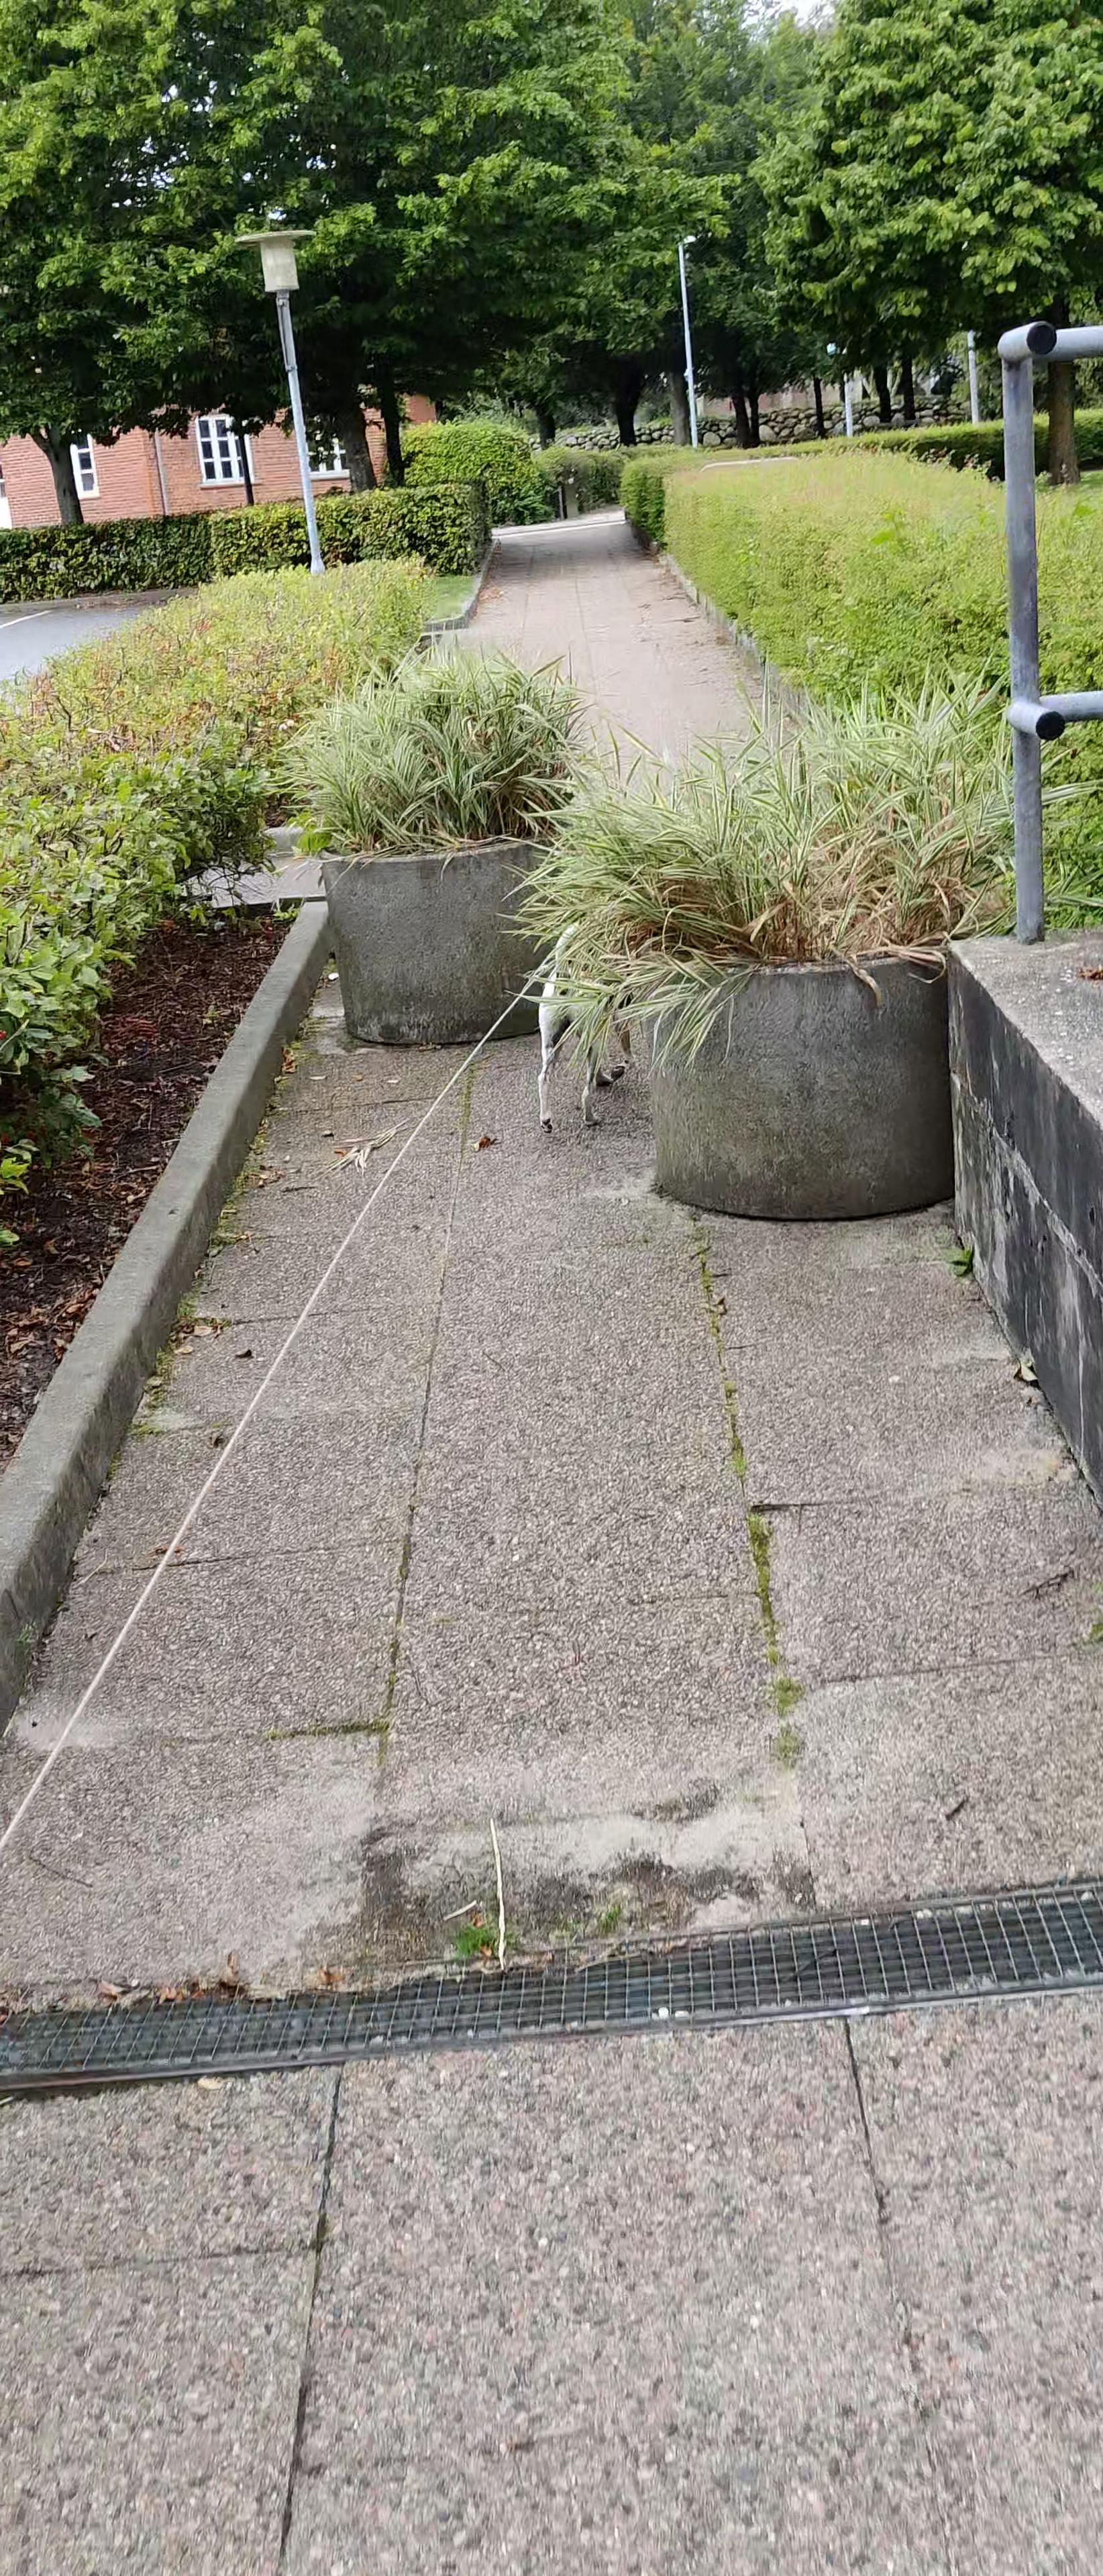Dog: (534, 910, 644, 1137)
